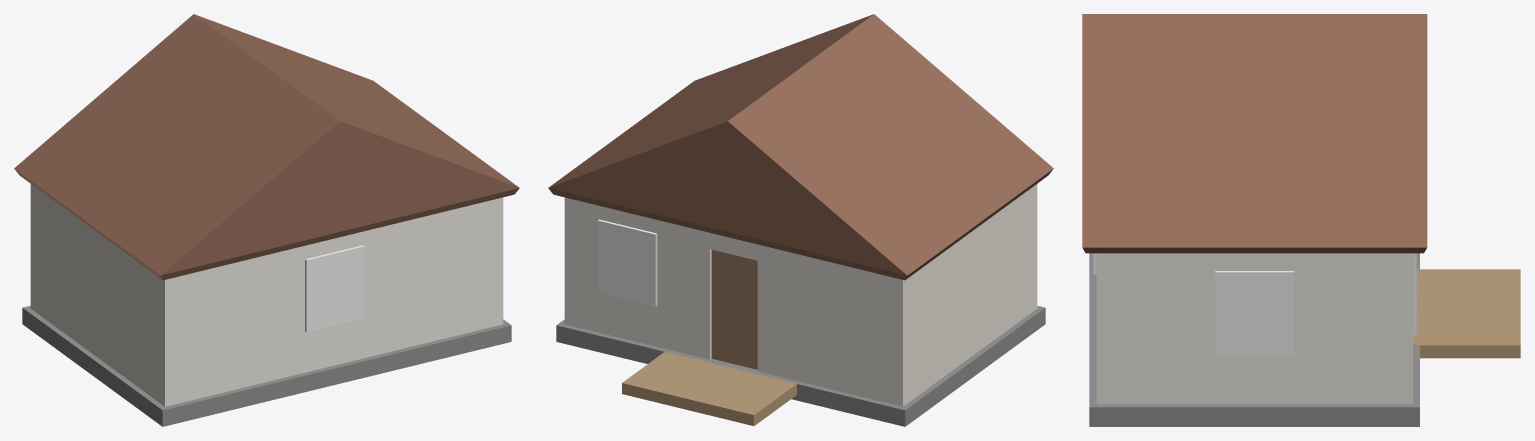
The model's file is rectangular-model-one-floor.glb.
3 views of the same model, side by side, from view 1: azimuth 30°, elevation 25°; view 2: azimuth 150°, elevation 25°; view 3: azimuth 270°, elevation 25° (orthographic). The views are drawn at different scales.
Visible parts, largest first — view 1: Roof, Back_Wall_Floor1, Left_Wall_Floor1, Foundation, Window_F1_Back_Frame, Right_Wall_Floor1; view 2: Roof, Front_Wall_Floor1, Left_Wall_Floor1, Foundation, Terrace, Door, Window_F1_Front_Right_Frame, Right_Wall_Floor1; view 3: Roof, Right_Wall_Floor1, Terrace, Foundation, Window_F1_Right_Frame.
Boxes of the visible parts, x1=… form: Roof: x1=14, y1=14, x2=519, y2=280; Back_Wall_Floor1: x1=175, y1=200, x2=492, y2=403; Left_Wall_Floor1: x1=30, y1=184, x2=175, y2=406; Foundation: x1=22, y1=305, x2=511, y2=426; Window_F1_Back_Frame: x1=305, y1=245, x2=364, y2=332; Right_Wall_Floor1: x1=492, y1=197, x2=503, y2=326; Roof: x1=548, y1=14, x2=1053, y2=280; Front_Wall_Floor1: x1=575, y1=200, x2=892, y2=403; Left_Wall_Floor1: x1=892, y1=184, x2=1037, y2=406; Foundation: x1=556, y1=305, x2=1045, y2=426; Terrace: x1=622, y1=352, x2=796, y2=425; Door: x1=711, y1=249, x2=757, y2=369; Window_F1_Front_Right_Frame: x1=597, y1=219, x2=657, y2=306; Right_Wall_Floor1: x1=564, y1=197, x2=575, y2=326; Roof: x1=1082, y1=14, x2=1427, y2=253; Right_Wall_Floor1: x1=1096, y1=253, x2=1412, y2=404; Terrace: x1=1413, y1=269, x2=1520, y2=358; Foundation: x1=1089, y1=253, x2=1419, y2=426; Window_F1_Right_Frame: x1=1215, y1=271, x2=1294, y2=356.
Size of the model in its own units: 6.8 by 4.8 by 6.1.
